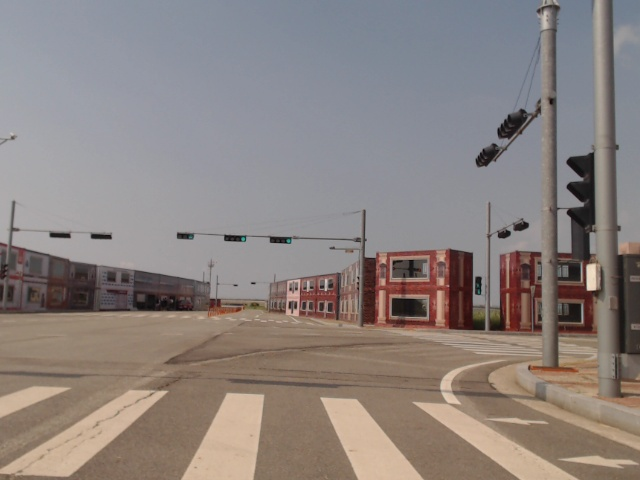straight_green_4: (268, 236, 293, 244), (225, 234, 246, 242)
